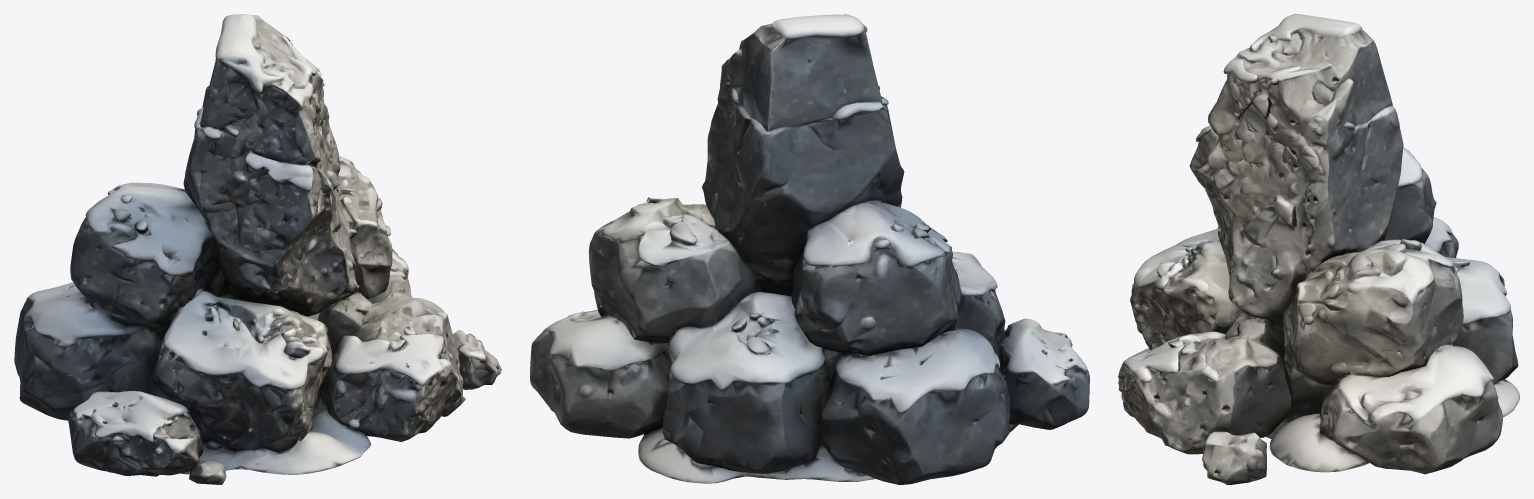
Rendered from snow-boulders.glb.
3 renders of one model, left to right at view 1: azimuth 30°, elevation 25°; view 2: azimuth 150°, elevation 25°; view 3: azimuth 270°, elevation 25°, orthographic. The views are drawn at different scales.
Parts seen in each view (by area): view 1: node_51bee810-1890-43a5-9e02-5c1d334f0bce; view 2: node_51bee810-1890-43a5-9e02-5c1d334f0bce; view 3: node_51bee810-1890-43a5-9e02-5c1d334f0bce.
Part boxes in pixels (left/top/right/bottom): node_51bee810-1890-43a5-9e02-5c1d334f0bce: left=14, top=14, right=501, bottom=484; node_51bee810-1890-43a5-9e02-5c1d334f0bce: left=530, top=14, right=1089, bottom=484; node_51bee810-1890-43a5-9e02-5c1d334f0bce: left=1118, top=14, right=1519, bottom=484.
Bounding box in the file's own units: 0.9795 × 0.806 × 0.8026.
1 material, 1 textured.
